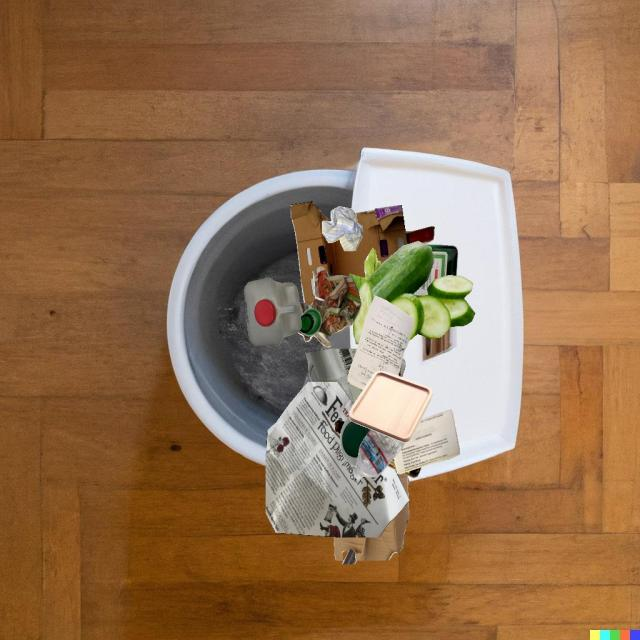biowaste: (350, 241, 475, 344)
cardboard: (291, 201, 408, 306), (334, 501, 409, 561)
combustible waste: (349, 371, 433, 442)
glass: (305, 349, 363, 404), (413, 244, 458, 297), (340, 434, 389, 466), (300, 308, 321, 336), (406, 226, 435, 244), (342, 548, 357, 564), (403, 467, 421, 478), (335, 420, 345, 434)
paper: (266, 382, 409, 537), (347, 295, 414, 390), (297, 266, 361, 347), (394, 409, 460, 474), (322, 206, 363, 251)
plastic: (244, 278, 302, 346), (353, 429, 405, 481), (340, 417, 371, 467), (400, 358, 406, 377)
trash: (398, 370, 401, 377)
